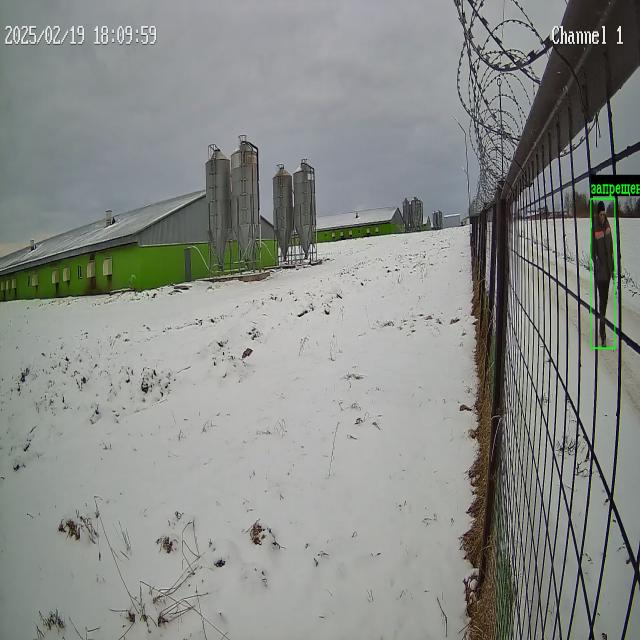Person: (592, 201, 614, 345)
